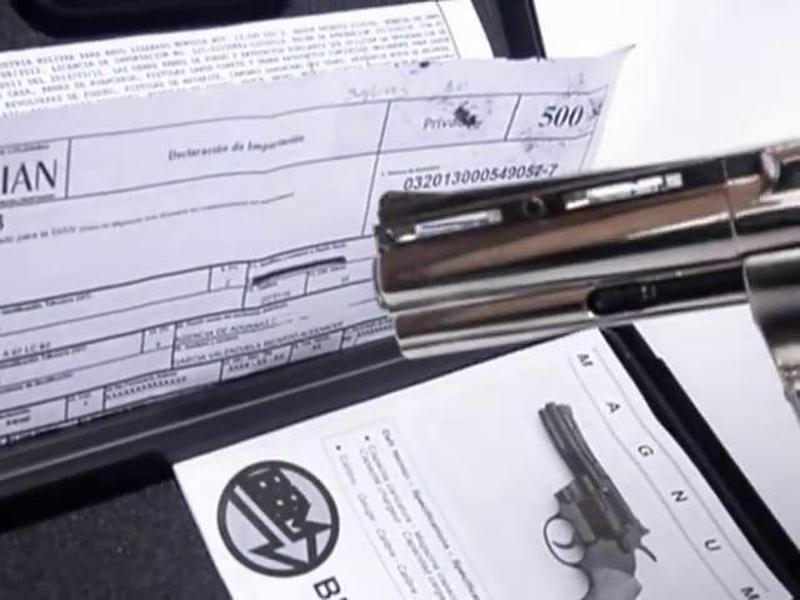Revolver: (337, 102, 800, 396)
